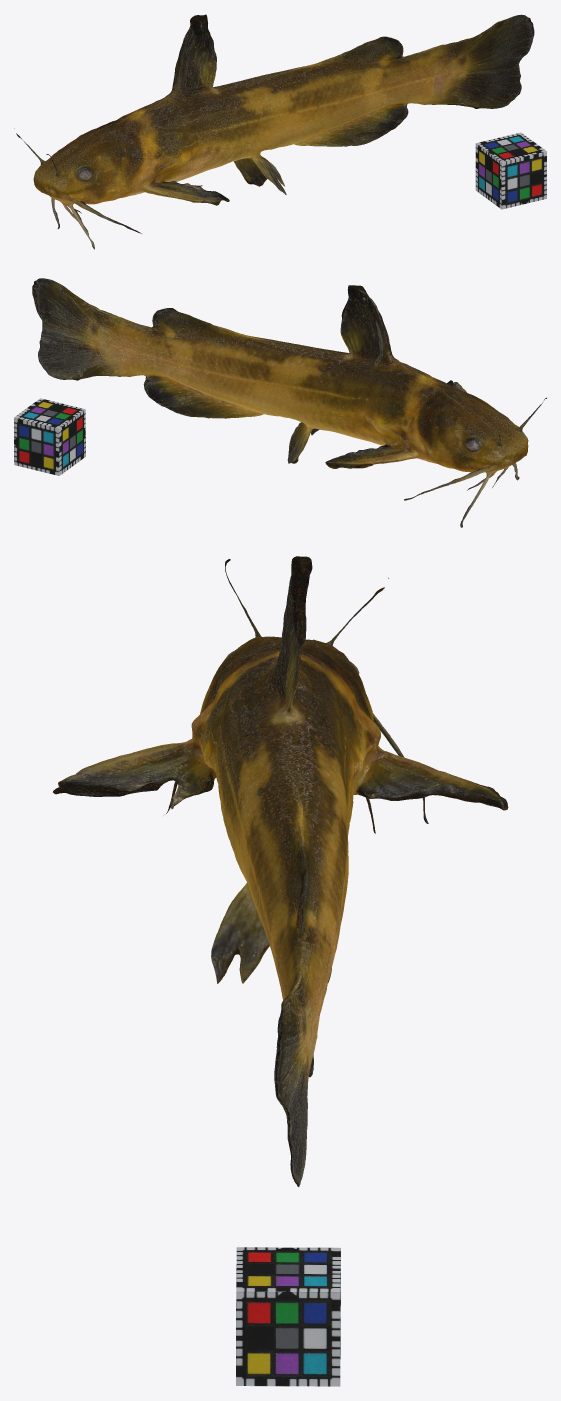
File: scan_ariakecat.glb
The picture shows the model from 3 angles, top to bottom: view 1: azimuth 30°, elevation 25°; view 2: azimuth 150°, elevation 25°; view 3: azimuth 270°, elevation 25°; orthographic projection. The views are drawn at different scales.
Parts seen in each view (by area): view 1: Object_6, Object_4; view 2: Object_6, Object_4; view 3: Object_6, Object_4.
Boxes of the visible parts, bbox=[...] form: Object_6: bbox=[14, 14, 534, 249]; Object_4: bbox=[475, 132, 546, 209]; Object_6: bbox=[32, 278, 546, 527]; Object_4: bbox=[14, 398, 85, 475]; Object_6: bbox=[53, 556, 508, 1186]; Object_4: bbox=[236, 1247, 340, 1386].
Bounding box in the file's own units: 5.62 × 2.7 × 2.21.
Materials: 2 (2 with a texture image).
